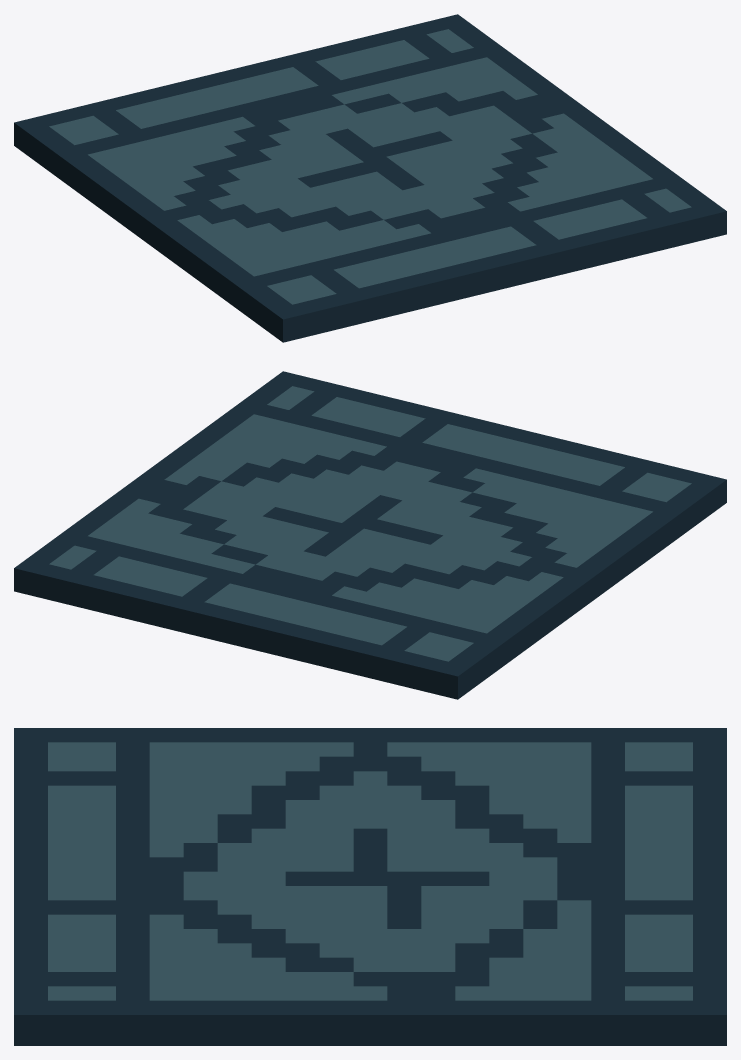
File: artefact_2.fbx
The picture shows the model from 3 angles, top to bottom: view 1: azimuth 30°, elevation 25°; view 2: azimuth 150°, elevation 25°; view 3: azimuth 270°, elevation 25°; orthographic projection. The views are drawn at different scales.
Visible parts, largest first — view 1: _15; view 2: _15; view 3: _15.
Part boxes in pixels (bbox=[...]): _15: bbox=[14, 14, 726, 342]; _15: bbox=[14, 371, 726, 699]; _15: bbox=[14, 728, 726, 1045].
Size of the model in its own units: 20 by 1 by 21.
